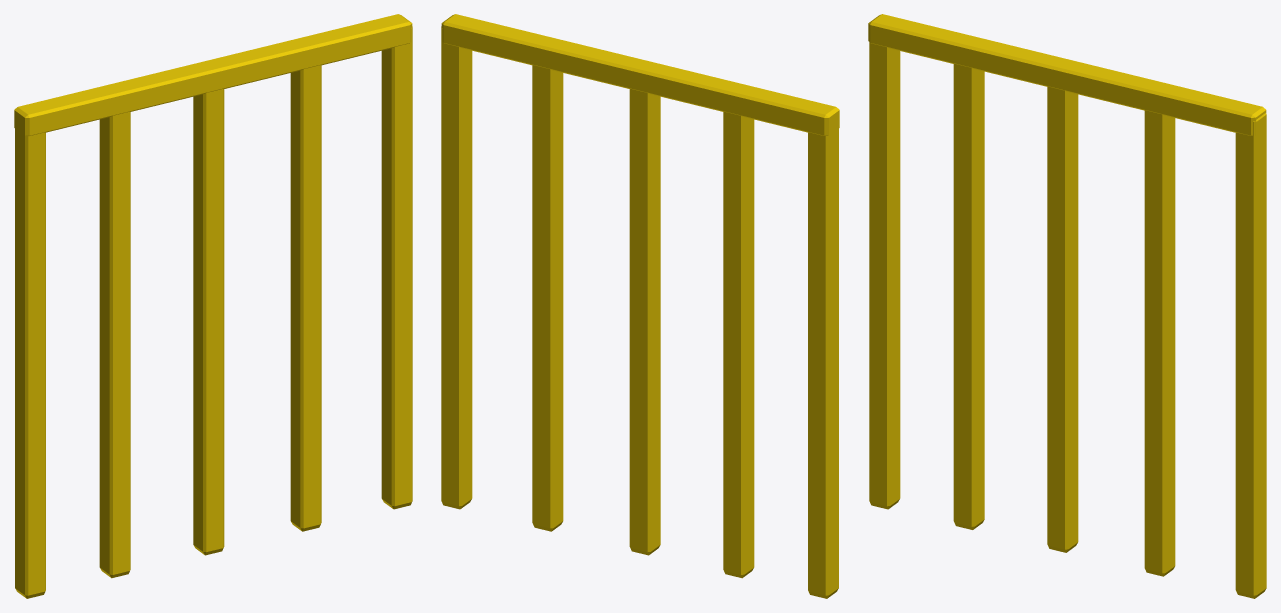
File: Fence.fbx
The picture shows the model from 3 angles, left to right: view 1: azimuth 30°, elevation 25°; view 2: azimuth 150°, elevation 25°; view 3: azimuth 330°, elevation 25°; orthographic projection.
Parts seen in each view (by area): view 1: Fences, pasted__pasted__pasted__pCube6, pasted__pasted__pasted__pasted__pCube6, pasted__pasted__pCube7, pasted__pCube6, pasted__Fences1; view 2: Fences, pasted__pasted__pasted__pCube6, pasted__pasted__pasted__pasted__pCube6, pasted__pasted__pCube7, pasted__pCube6, pasted__Fences1; view 3: Fences, pasted__pasted__pCube7, pasted__pasted__pasted__pasted__pCube6, pasted__pCube6, pasted__pasted__pasted__pCube6, pasted__Fences1.
Part boxes in pixels (x1,y1,x2,y2): Fences: (381,26,412,509); pasted__pasted__pasted__pCube6: (193,89,224,555); pasted__pasted__pasted__pasted__pCube6: (290,65,321,531); pasted__pasted__pCube7: (99,111,130,578); pasted__pCube6: (15,128,45,598); pasted__Fences1: (14,14,412,135); Fences: (441,26,472,509); pasted__pasted__pasted__pCube6: (629,89,660,555); pasted__pasted__pasted__pasted__pCube6: (532,65,563,531); pasted__pasted__pCube7: (723,111,754,578); pasted__pCube6: (808,128,838,598); pasted__Fences1: (441,14,839,135); Fences: (1235,113,1266,598); pasted__pasted__pCube7: (953,64,984,529); pasted__pasted__pasted__pasted__pCube6: (1144,110,1175,576); pasted__pCube6: (869,42,900,509); pasted__pasted__pasted__pCube6: (1047,86,1078,552); pasted__Fences1: (868,14,1266,135).
Bounding box in the file's own units: 1.04 × 1.24 × 0.0625.
